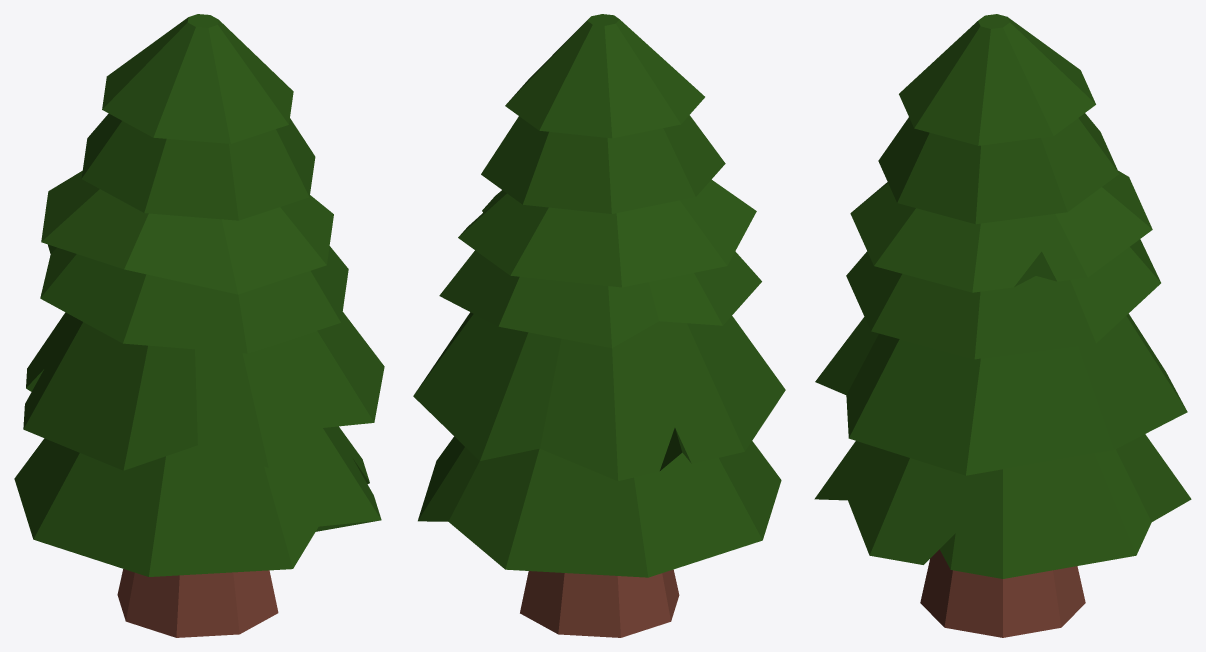
Rendered from SingleTree.fbx.
3 renders of one model, left to right at view 1: azimuth 30°, elevation 25°; view 2: azimuth 150°, elevation 25°; view 3: azimuth 270°, elevation 25°, orthographic.
Parts seen in each view (by area): view 1: Cylinder.006; view 2: Cylinder.006; view 3: Cylinder.006.
Part boxes in pixels (<box>): Cylinder.006: <box>14,14,384,637</box>; Cylinder.006: <box>413,14,785,637</box>; Cylinder.006: <box>814,14,1191,637</box>.
Bounding box in the file's own units: 1430 × 2411 × 1416.
